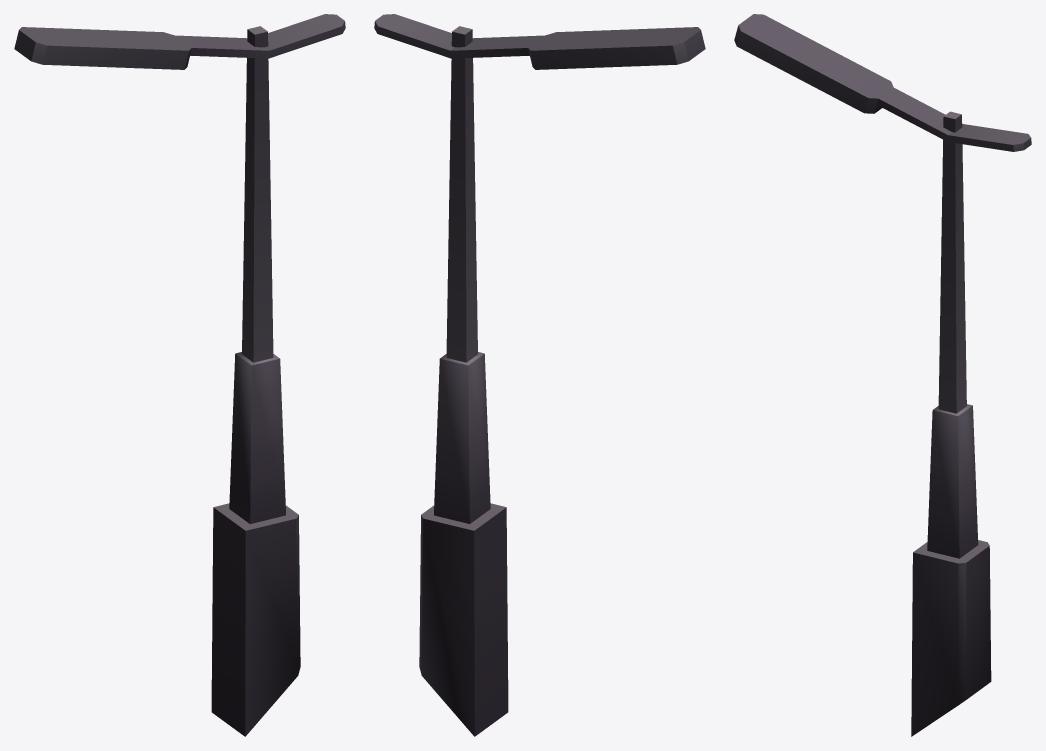
The model's file is Highway_Streetlight_1A.fbx.
3 views of the same model, side by side, from view 1: azimuth 30°, elevation 25°; view 2: azimuth 150°, elevation 25°; view 3: azimuth 330°, elevation 25° (orthographic). The views are drawn at different scales.
Parts seen in each view (by area): view 1: Highway_Streetlight_1A; view 2: Highway_Streetlight_1A; view 3: Highway_Streetlight_1A.
Boxes of the visible parts, x1=… form: Highway_Streetlight_1A: x1=14, y1=14, x2=345, y2=736; Highway_Streetlight_1A: x1=374, y1=14, x2=705, y2=736; Highway_Streetlight_1A: x1=734, y1=14, x2=1031, y2=736.
Size of the model in its own units: 434 by 959 by 79.67.
